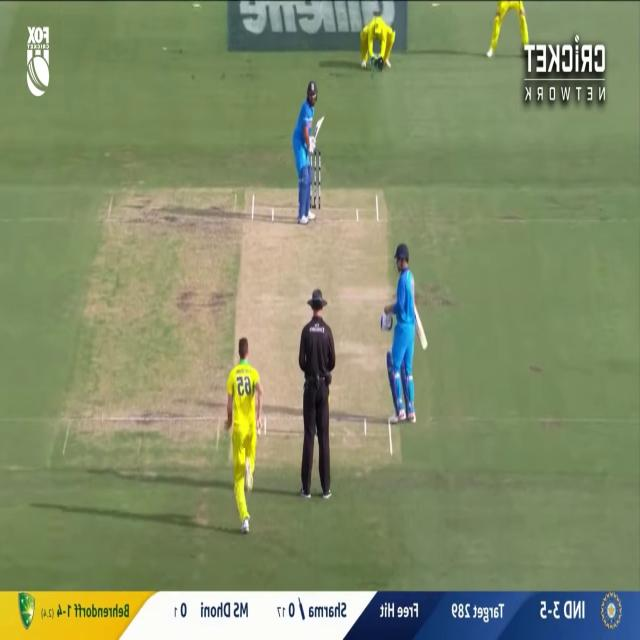stump: (309, 149, 320, 207)
